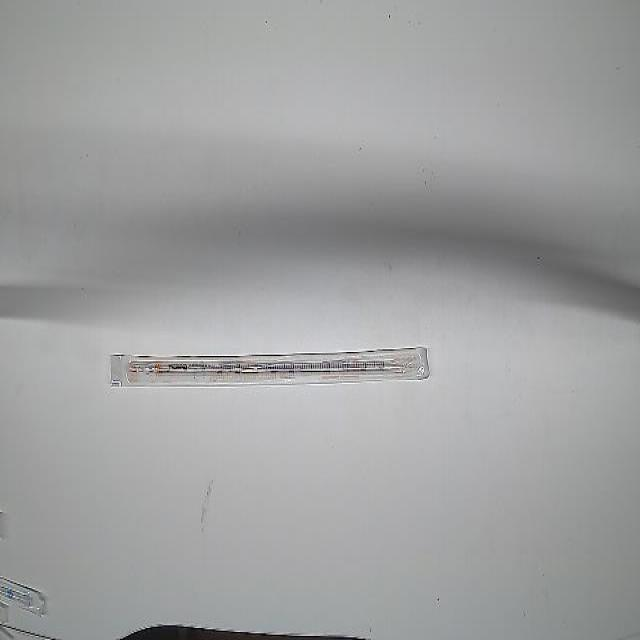Serelogical Pipet 10 mL - Sealed: (106, 340, 433, 386)
Serelogical Pipet 5 mL - Sealed: (0, 570, 48, 620)
